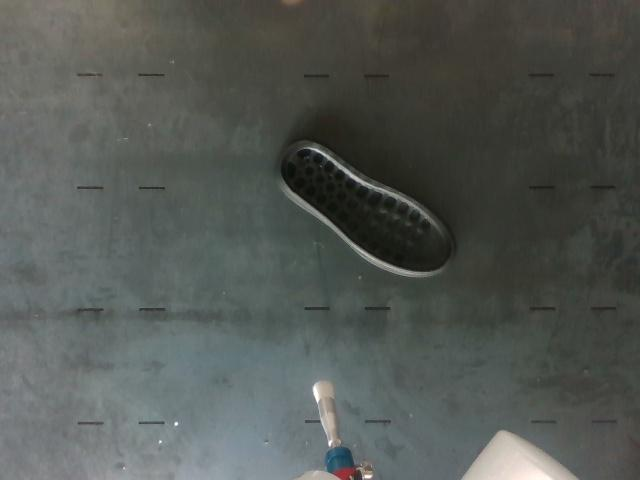shoes: (280, 144, 453, 273)
